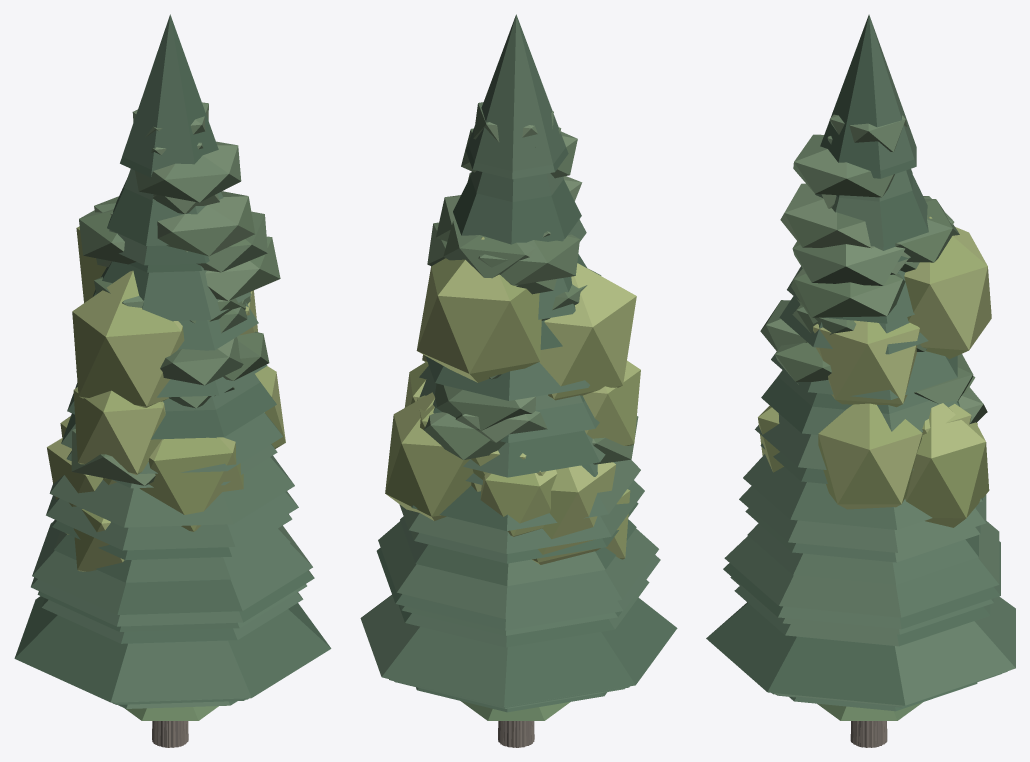
File: old_trees.glb
The picture shows the model from 3 angles, left to right: view 1: azimuth 30°, elevation 25°; view 2: azimuth 150°, elevation 25°; view 3: azimuth 270°, elevation 25°; orthographic projection.
Parts seen in each view (by area): view 1: TallSpruce3, TallSpruce2, Birch2, Birch0, Pine2, TallSpruce1, TallSpruce0, Pine5, Pine0, Pine1, Birch3, Birch1 (+4 smaller); view 2: TallSpruce3, TallSpruce2, Birch1, Birch3, Birch0, TallSpruce1, Birch2, TallSpruce0, Pine2, Pine0, Pine4, Pine3 (+3 smaller); view 3: TallSpruce3, TallSpruce2, Birch1, Pine2, TallSpruce1, Birch0, Birch3, TallSpruce0, Pine0, Pine5, Pine4, Pine3 (+3 smaller).
Part boxes in pixels (x1,y1,x2,y2): TallSpruce3: [14, 156, 331, 702]; TallSpruce2: [31, 14, 314, 702]; Birch2: [47, 387, 243, 534]; Birch0: [70, 270, 285, 448]; Pine2: [79, 102, 280, 747]; TallSpruce1: [41, 527, 303, 704]; TallSpruce0: [37, 169, 306, 703]; Pine5: [110, 194, 269, 747]; Pine0: [94, 141, 241, 747]; Pine1: [71, 387, 234, 747]; Birch3: [60, 416, 124, 571]; Birch1: [76, 226, 257, 335]; TallSpruce3: [360, 144, 677, 706]; TallSpruce2: [376, 14, 660, 707]; Birch1: [416, 237, 541, 382]; Birch3: [385, 392, 630, 559]; Birch0: [404, 263, 636, 491]; TallSpruce1: [394, 516, 649, 708]; Birch2: [417, 360, 640, 564]; TallSpruce0: [389, 170, 638, 708]; Pine2: [427, 102, 582, 747]; Pine0: [443, 127, 577, 747]; Pine4: [423, 374, 547, 747]; Pine3: [434, 268, 601, 747]; TallSpruce3: [706, 142, 1015, 705]; TallSpruce2: [723, 14, 1000, 705]; Birch1: [813, 216, 991, 407]; Pine2: [780, 114, 954, 747]; TallSpruce1: [734, 523, 1001, 707]; Birch0: [818, 403, 922, 509]; Birch3: [905, 403, 989, 527]; TallSpruce0: [730, 169, 1007, 706]; Pine0: [793, 134, 959, 747]; Pine5: [760, 194, 910, 747]; Pine4: [792, 293, 987, 747]; Pine3: [850, 344, 973, 747].
Bounding box in the file's own units: 5.88 × 14.81 × 5.73.
